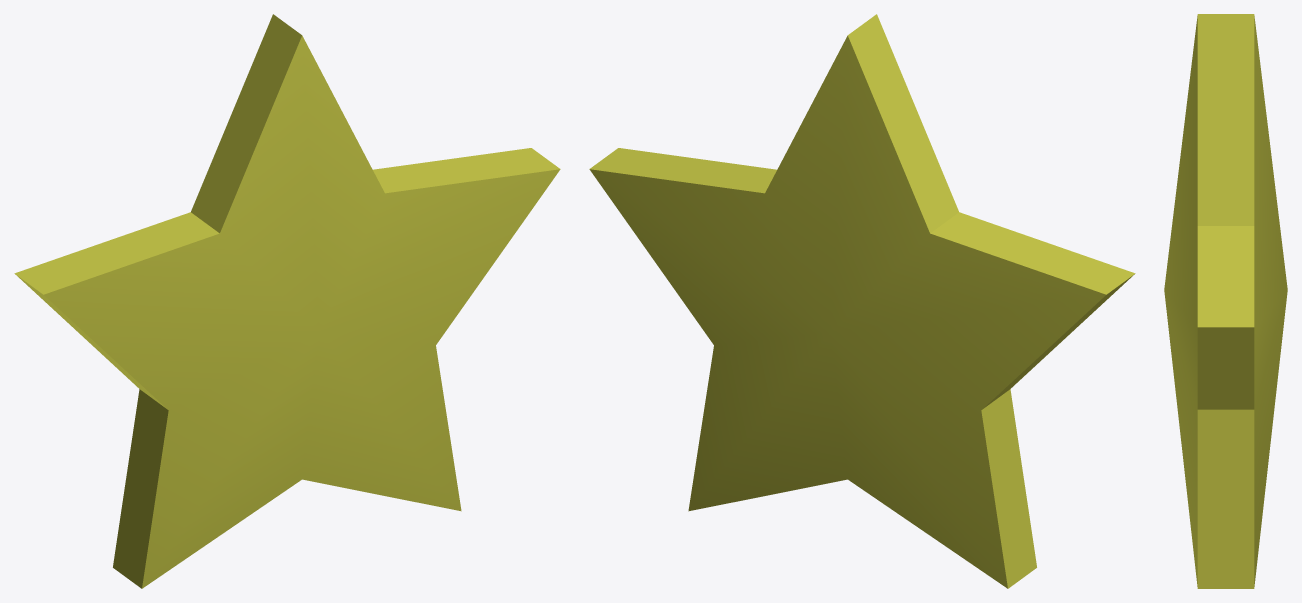
The model's file is 05 star.FBX.
3 renders of one model, left to right at view 1: azimuth 30°, elevation 25°; view 2: azimuth 150°, elevation 25°; view 3: azimuth 270°, elevation 25°, orthographic. The views are drawn at different scales.
Visible parts, largest first — view 1: SM_Icon_Star_01; view 2: SM_Icon_Star_01; view 3: SM_Icon_Star_01.
Boxes of the visible parts, box(x1,y1,x2,y2) form: SM_Icon_Star_01: box(14, 14, 560, 588); SM_Icon_Star_01: box(589, 14, 1135, 588); SM_Icon_Star_01: box(1164, 14, 1287, 588).
Size of the model in its own units: 51.23 by 48.74 by 10.92.
